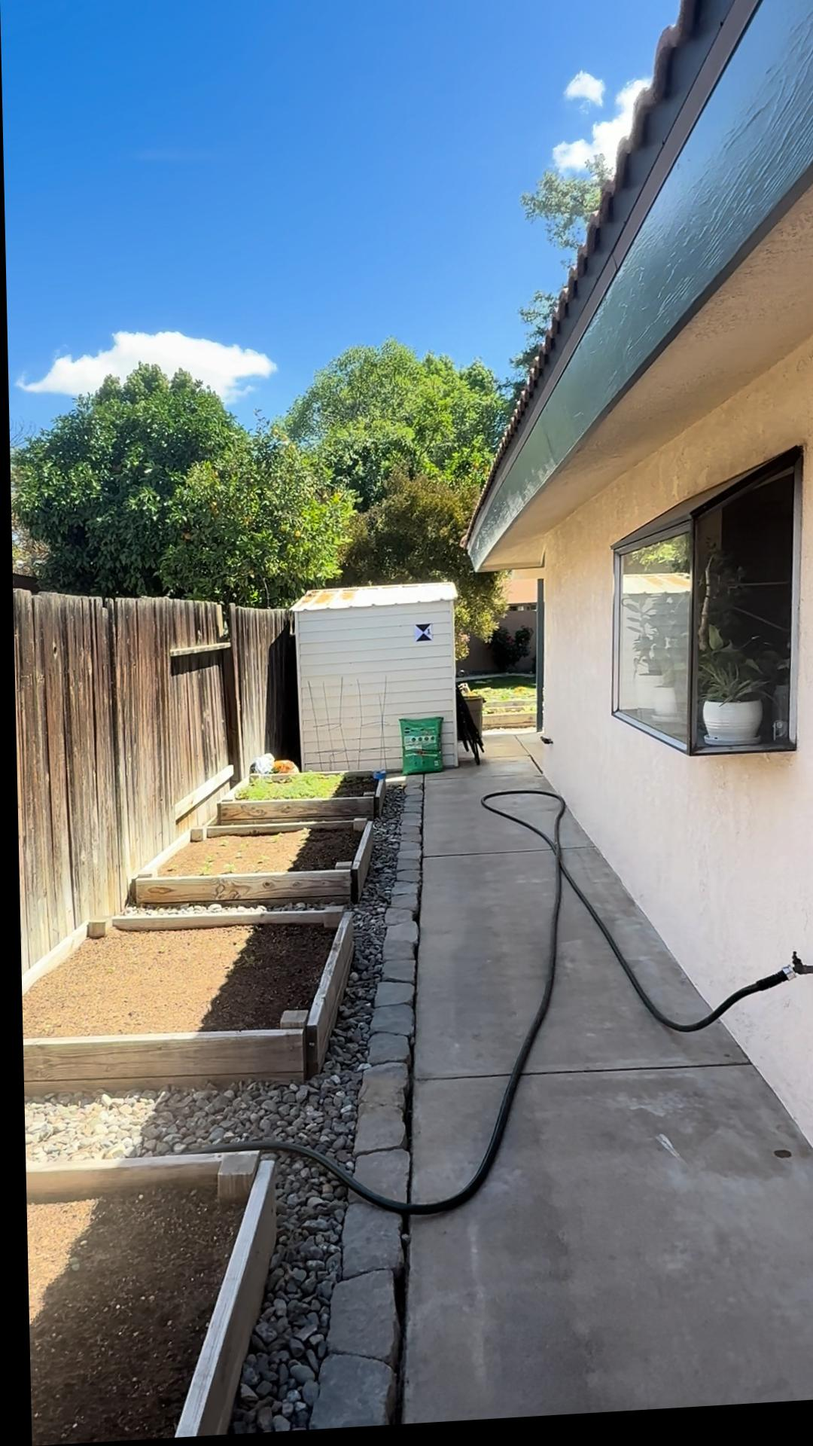target1: (415, 622, 434, 643)
